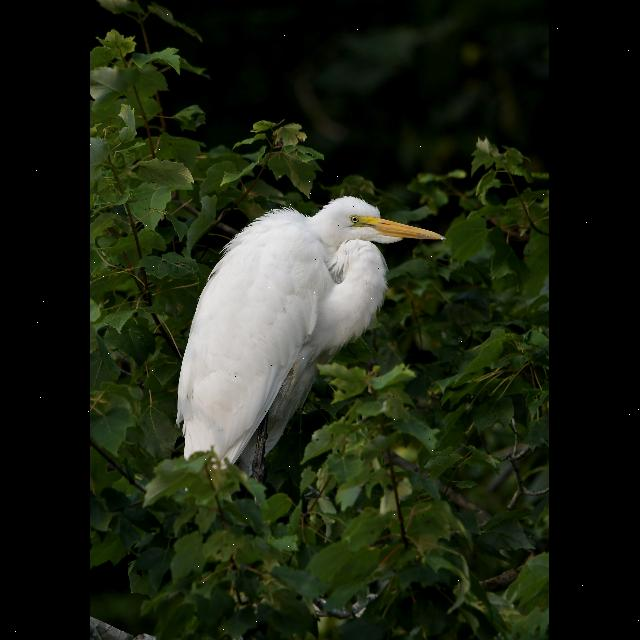egret: (160, 191, 448, 475)
